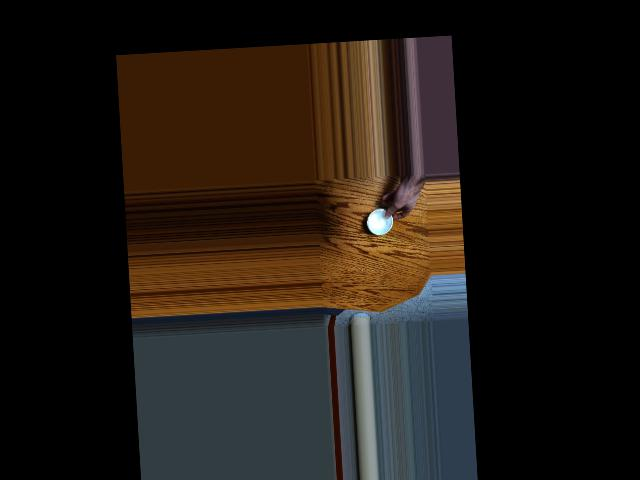cotage: (367, 205, 397, 235)
